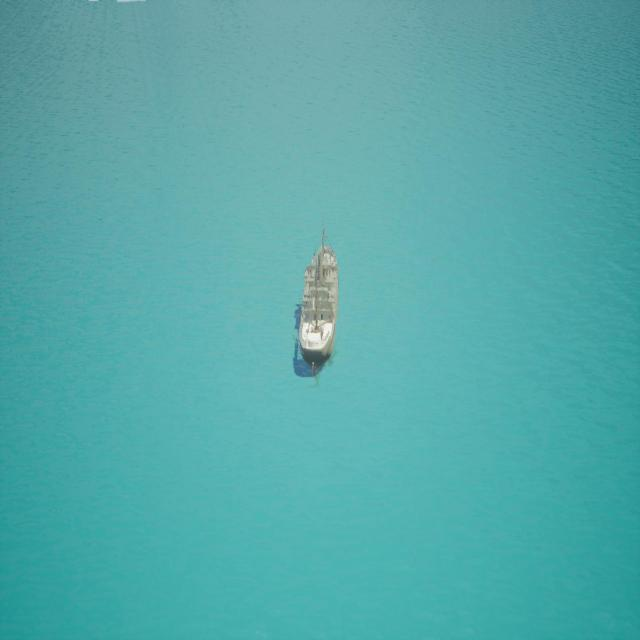fishing ship: (295, 220, 341, 384)
